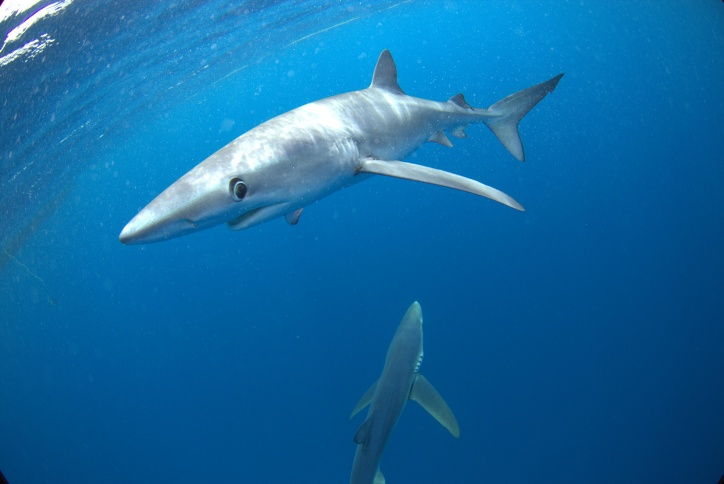Azul: (101, 38, 583, 263)
